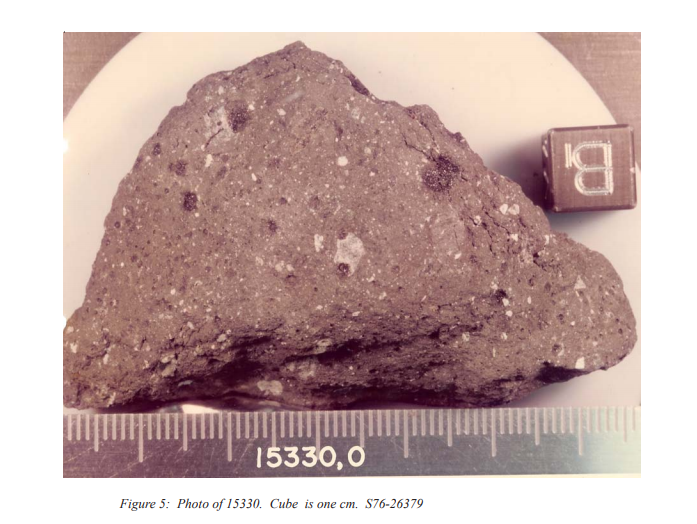Breccia: (68, 41, 631, 407), (226, 146, 559, 387), (171, 86, 415, 385)
